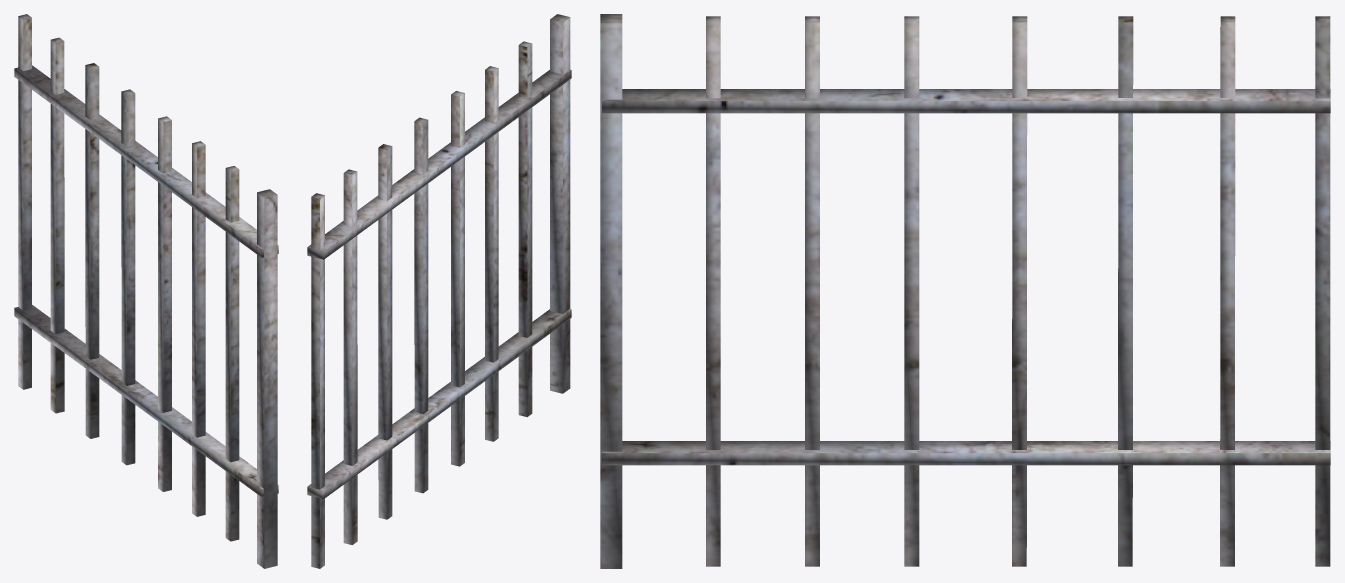
Rendered from Fence.fbx.
3 views of the same model, side by side, from view 1: azimuth 30°, elevation 25°; view 2: azimuth 150°, elevation 25°; view 3: azimuth 270°, elevation 25° (orthographic). The views are drawn at different scales.
Visible parts, largest first — view 1: Fence; view 2: Fence; view 3: Fence.
Boxes of the visible parts, bbox=[...] form: Fence: bbox=[14, 14, 278, 568]; Fence: bbox=[307, 14, 571, 568]; Fence: bbox=[600, 14, 1330, 568].
Size of the model in its own units: 0.0483 by 1.02 by 1.24.
